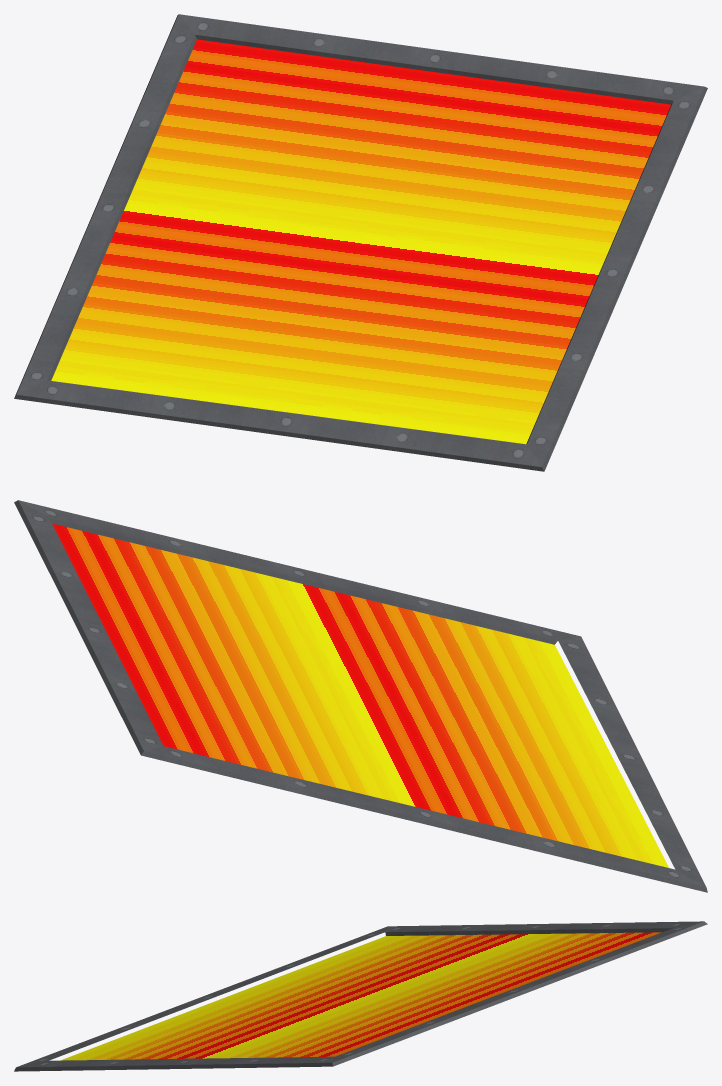
The picture shows the model from 3 angles, top to bottom: view 1: azimuth 30°, elevation 25°; view 2: azimuth 150°, elevation 25°; view 3: azimuth 270°, elevation 25°; orthographic projection. The views are drawn at different scales.
Parts seen in each view (by area): view 1: FLAT_SURFACE, FLAT; view 2: FLAT_SURFACE, FLAT; view 3: FLAT_SURFACE, FLAT.
Part boxes in pixels (x1,y1,x2,y2): FLAT_SURFACE: (51, 39, 670, 444); FLAT: (14, 14, 707, 471); FLAT_SURFACE: (52, 523, 668, 867); FLAT: (14, 500, 707, 892); FLAT_SURFACE: (60, 932, 661, 1060); FLAT: (14, 921, 707, 1071).
Size of the model in its own units: 137 by 34.42 by 138.
2 materials, 2 textured.
